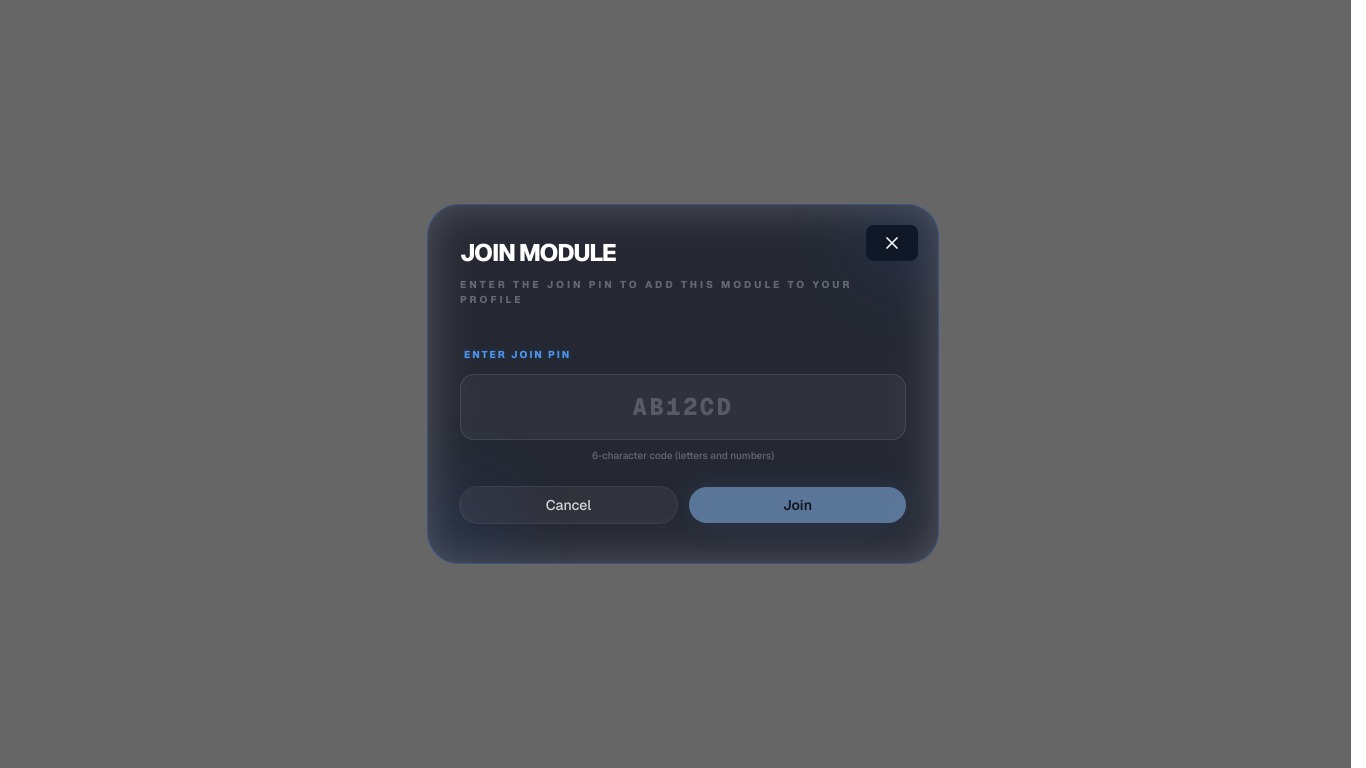
JoinModule › shows generic error when joinModule fails without specific error
Step 1. Type "XXXXXX" into the field with placeholder "AB12CD" → point(683, 407), box [460,374,906,440]
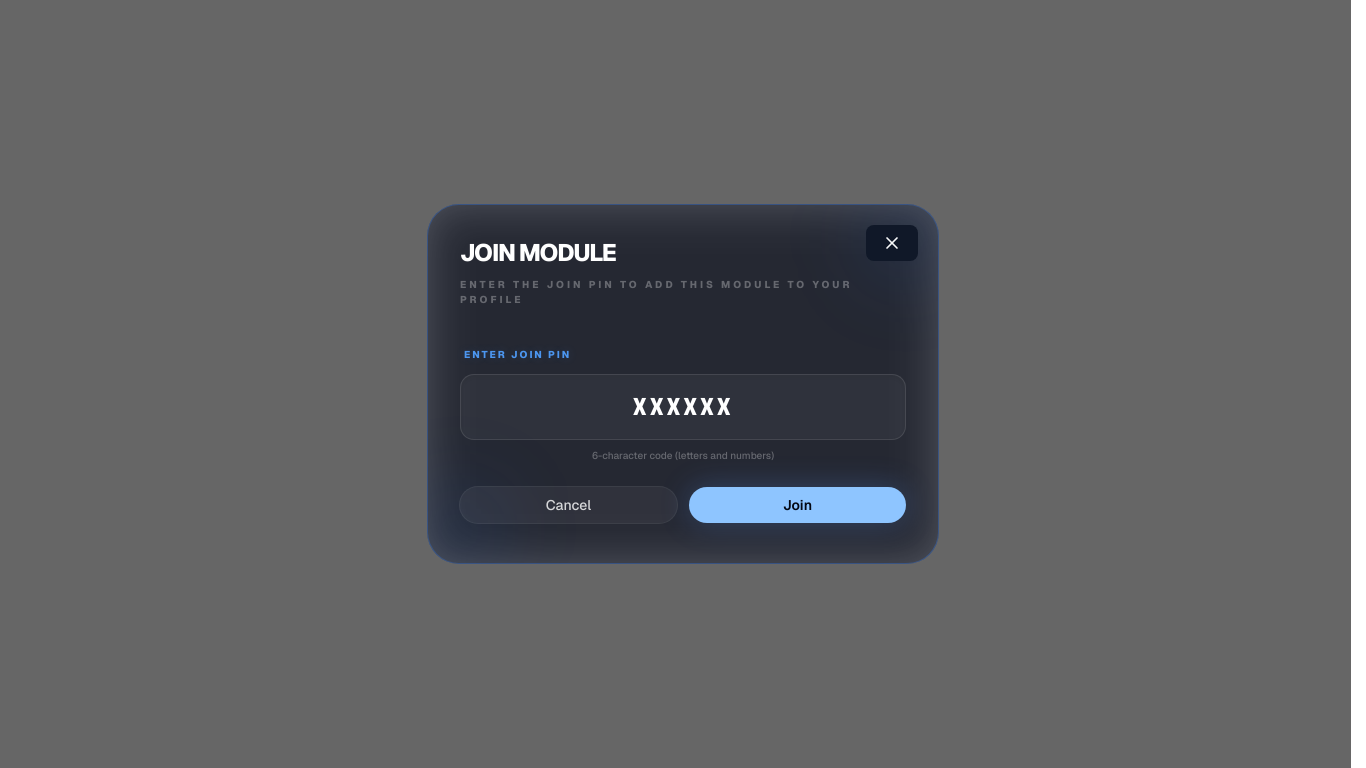
Step 2. Click the button "Join" → point(798, 505), box [689,487,906,523]
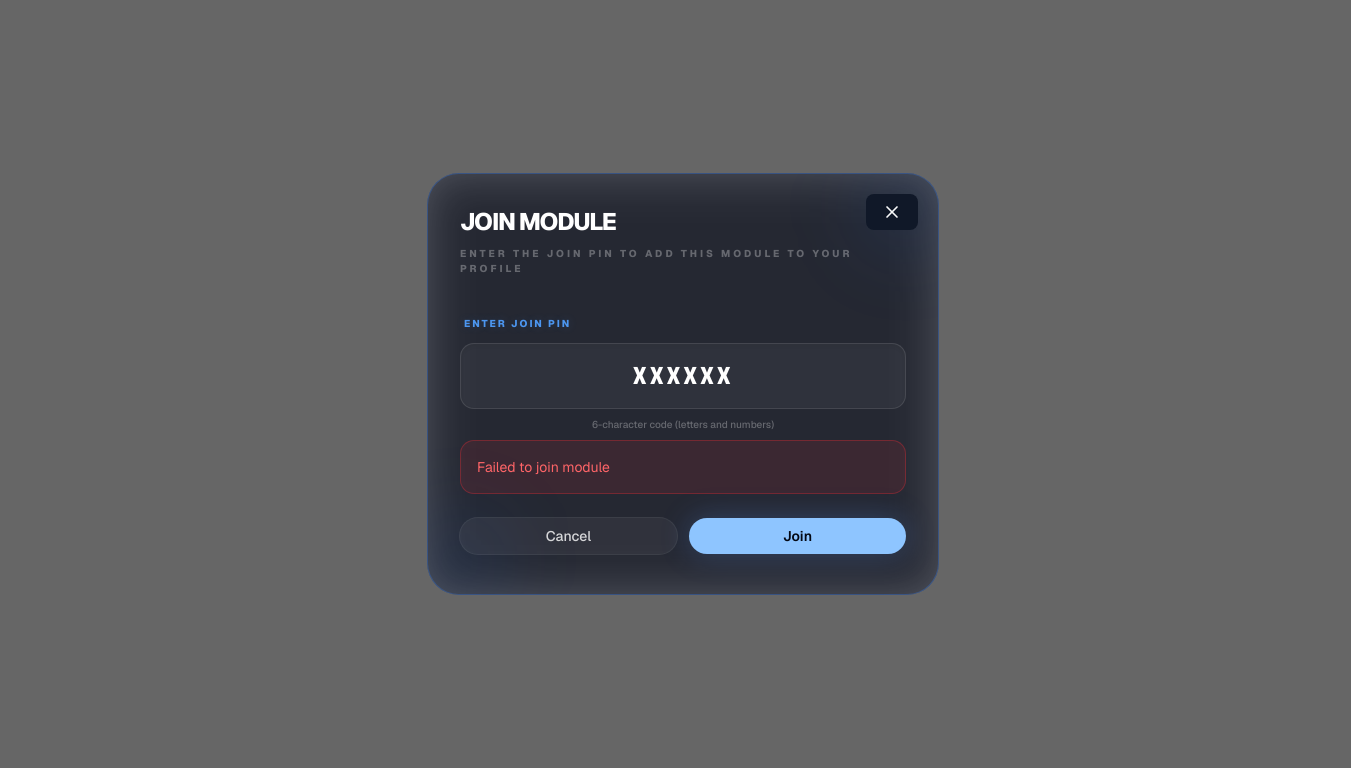
Expected: the text "Failed to join module" is shown, [460,440,906,494]
